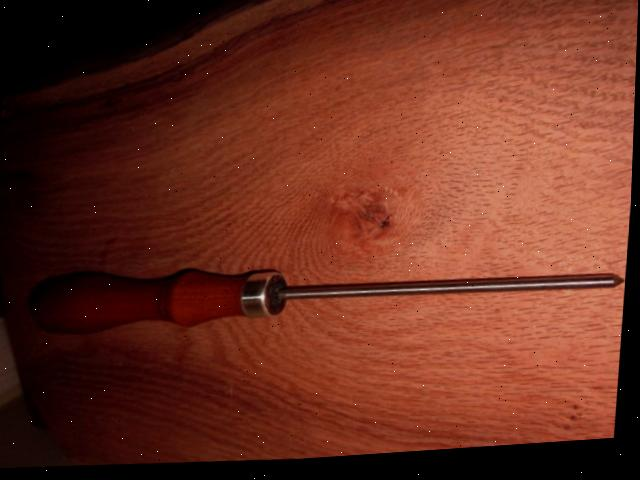ice pick: (28, 242, 626, 354)
